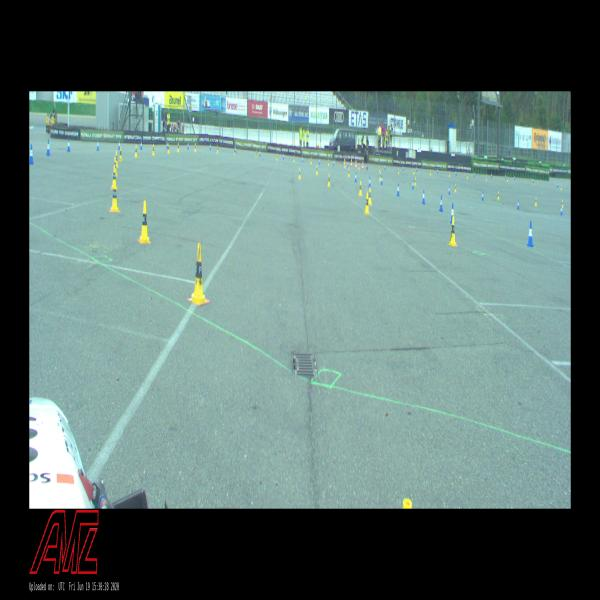blue_cone: (527, 220, 534, 248), (449, 204, 455, 224), (29, 145, 34, 164), (46, 139, 51, 156), (439, 196, 443, 211), (66, 138, 70, 152), (96, 139, 100, 151), (422, 190, 425, 205), (368, 176, 371, 188), (560, 205, 563, 216), (354, 172, 357, 182), (118, 140, 121, 150), (397, 183, 399, 196), (380, 176, 383, 184), (517, 199, 519, 210), (412, 180, 414, 190), (448, 185, 450, 195), (482, 191, 484, 201), (140, 141, 142, 149), (187, 142, 189, 150)
yellow_cone: (190, 243, 207, 305), (138, 201, 150, 243), (110, 181, 119, 212), (448, 216, 457, 246), (112, 168, 117, 189), (365, 192, 369, 214), (113, 157, 117, 176), (368, 187, 372, 206), (358, 180, 362, 196), (118, 147, 122, 161), (327, 173, 331, 187), (134, 144, 138, 157), (152, 143, 155, 156), (116, 150, 118, 168), (167, 143, 170, 154), (177, 142, 180, 152), (454, 184, 457, 193), (298, 167, 300, 179), (535, 197, 537, 206), (316, 165, 318, 174), (348, 168, 350, 177), (497, 191, 499, 200), (194, 143, 196, 152), (414, 177, 416, 186), (379, 172, 381, 181), (216, 145, 218, 153), (562, 200, 564, 208), (310, 157, 312, 164)
